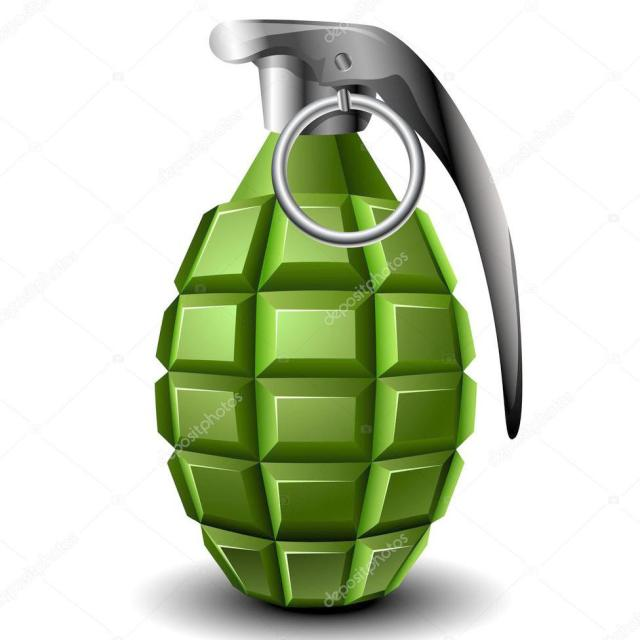grenade: (154, 19, 524, 617)
